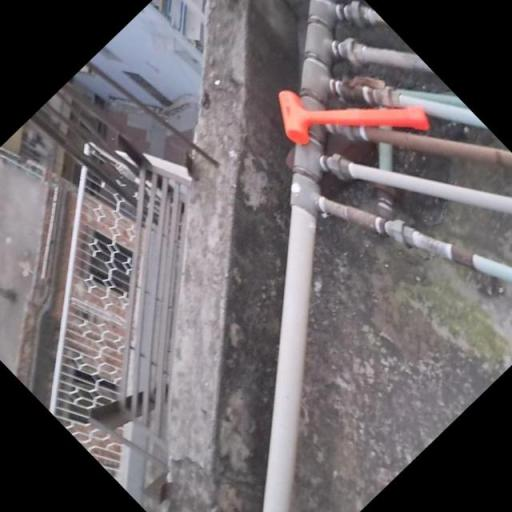mallet: (262, 29, 436, 203)
